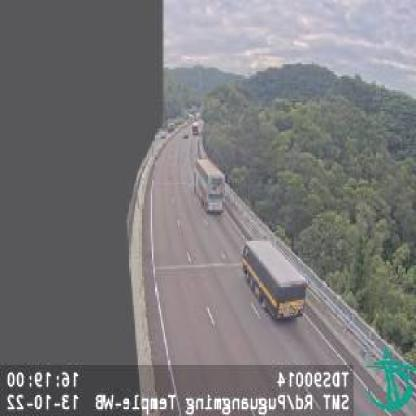Bus: (194, 159, 226, 213)
Truck: (241, 237, 307, 320)
